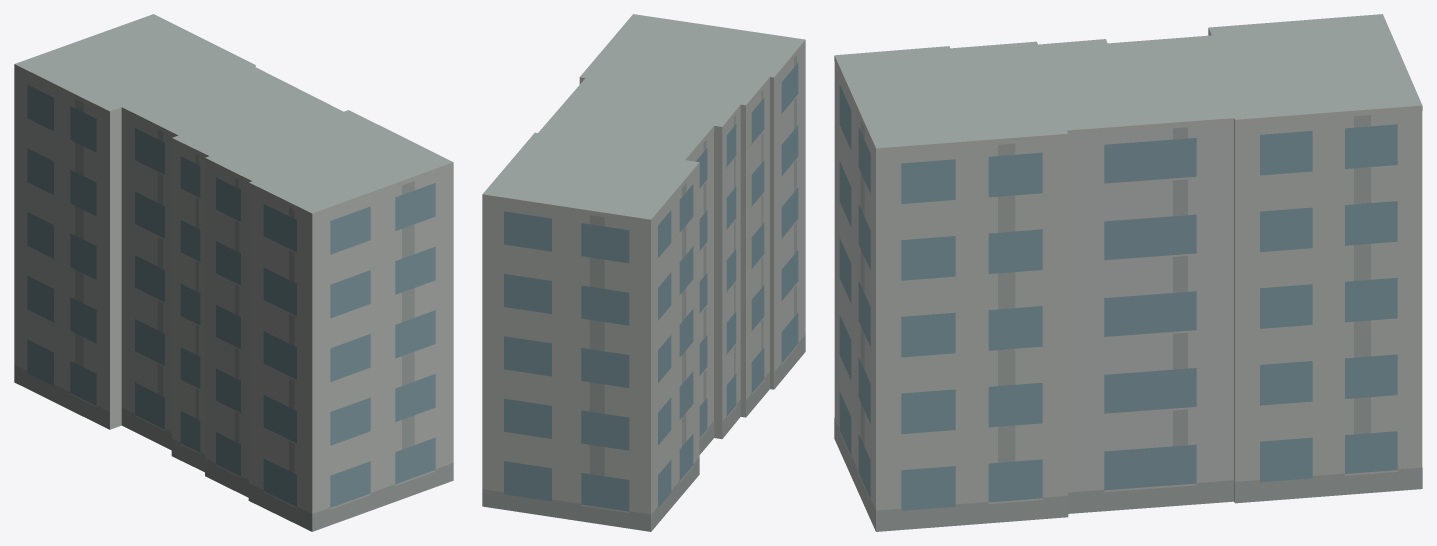
File: survey-upis-32464942.glb
3 views of the same model, side by side, from view 1: azimuth 30°, elevation 25°; view 2: azimuth 150°, elevation 25°; view 3: azimuth 270°, elevation 25° (orthographic). The views are drawn at different scales.
Parts seen in each view (by area): view 1: survey-upis-32464942.tmp; view 2: survey-upis-32464942.tmp; view 3: survey-upis-32464942.tmp.
Part boxes in pixels (x1,y1,x2,y2): survey-upis-32464942.tmp: (14,14,453,531); survey-upis-32464942.tmp: (482,14,805,531); survey-upis-32464942.tmp: (834,14,1422,531).
Bounding box in the file's own units: 12.49 × 16.6 × 23.08.
